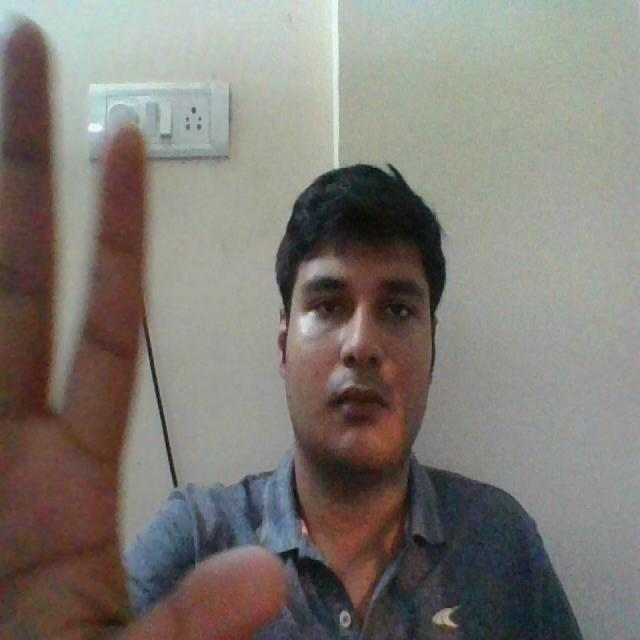Hello: (0, 0, 333, 637)
